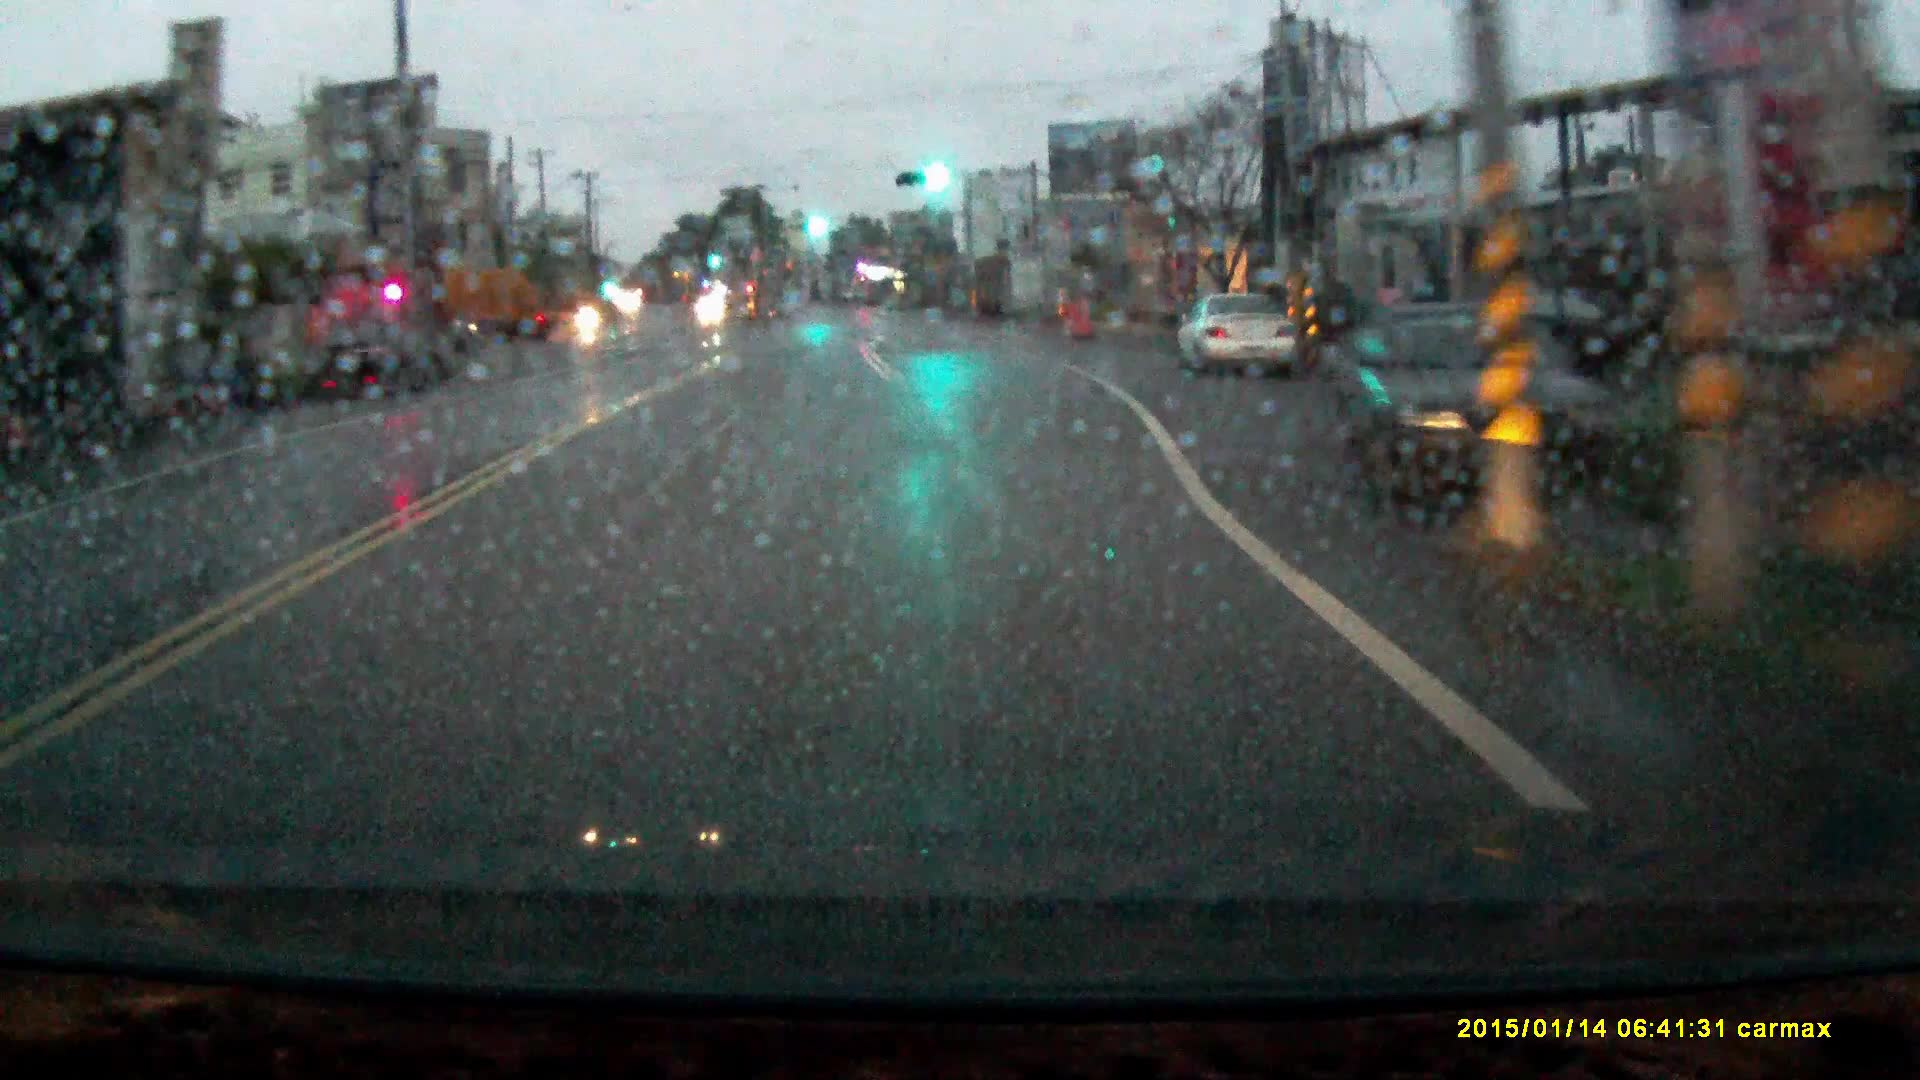rider: (570, 295, 605, 355)
vehicle: (1329, 319, 1616, 504), (1171, 288, 1297, 375), (435, 265, 550, 345), (312, 318, 436, 392), (697, 296, 725, 319)
